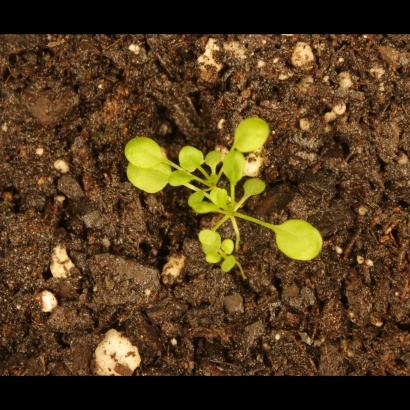leaf: (272, 216, 327, 266), (121, 154, 174, 196), (231, 116, 274, 154), (121, 133, 164, 170), (221, 150, 249, 186), (167, 165, 195, 194), (178, 145, 206, 172), (199, 148, 224, 175), (244, 176, 268, 199), (197, 249, 221, 272), (186, 187, 209, 210), (192, 202, 215, 225), (206, 188, 229, 211), (219, 256, 242, 279), (196, 226, 219, 249), (220, 234, 243, 257)
